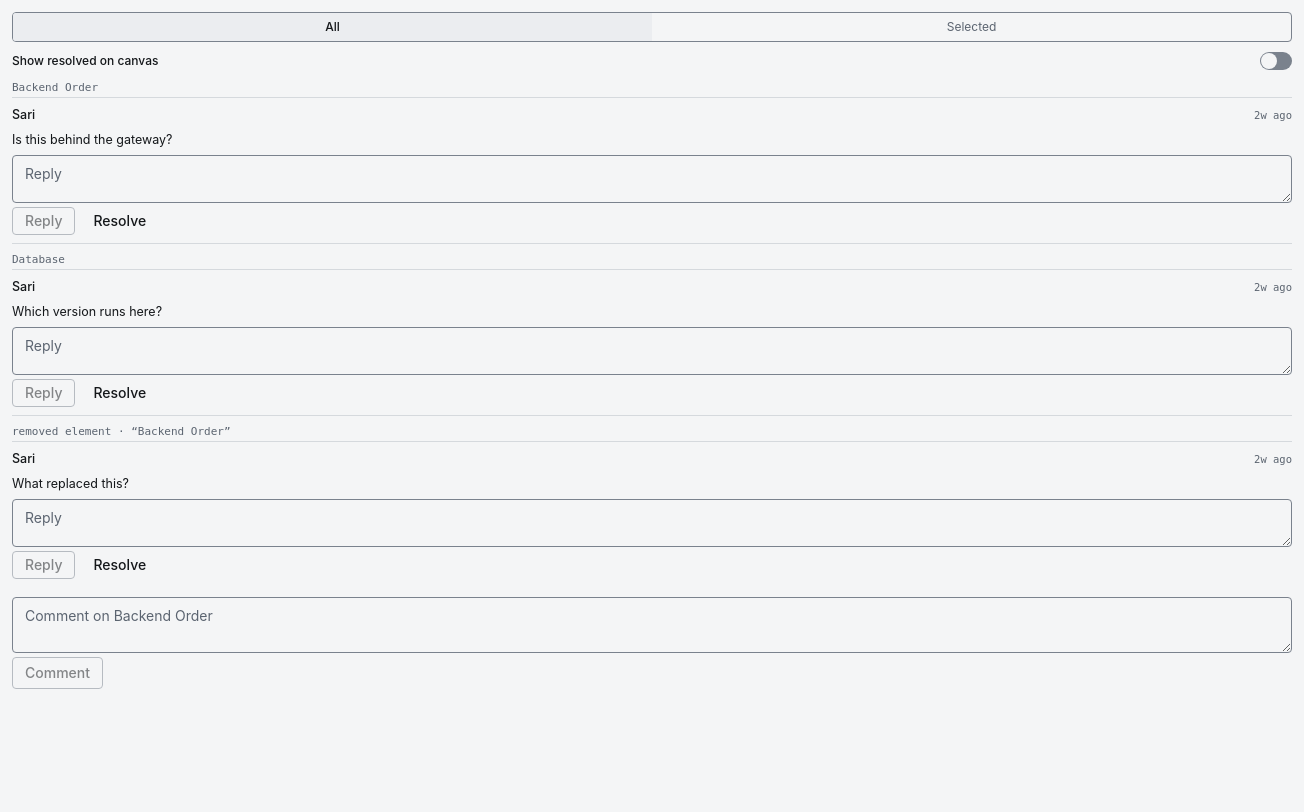
Scenario: the comments tab › lists every thread of the document, filters to the selection, and keeps removed elements last
The image size is (1304, 812).
Expected: the text "Is this behind the gateway?" is shown, [12,132,172,147]
Expected: the text "removed element · “Backend Order”" is shown, [12,425,231,438]
Click the button "Selected": coordinates (972, 27) [652,13,1291,41]
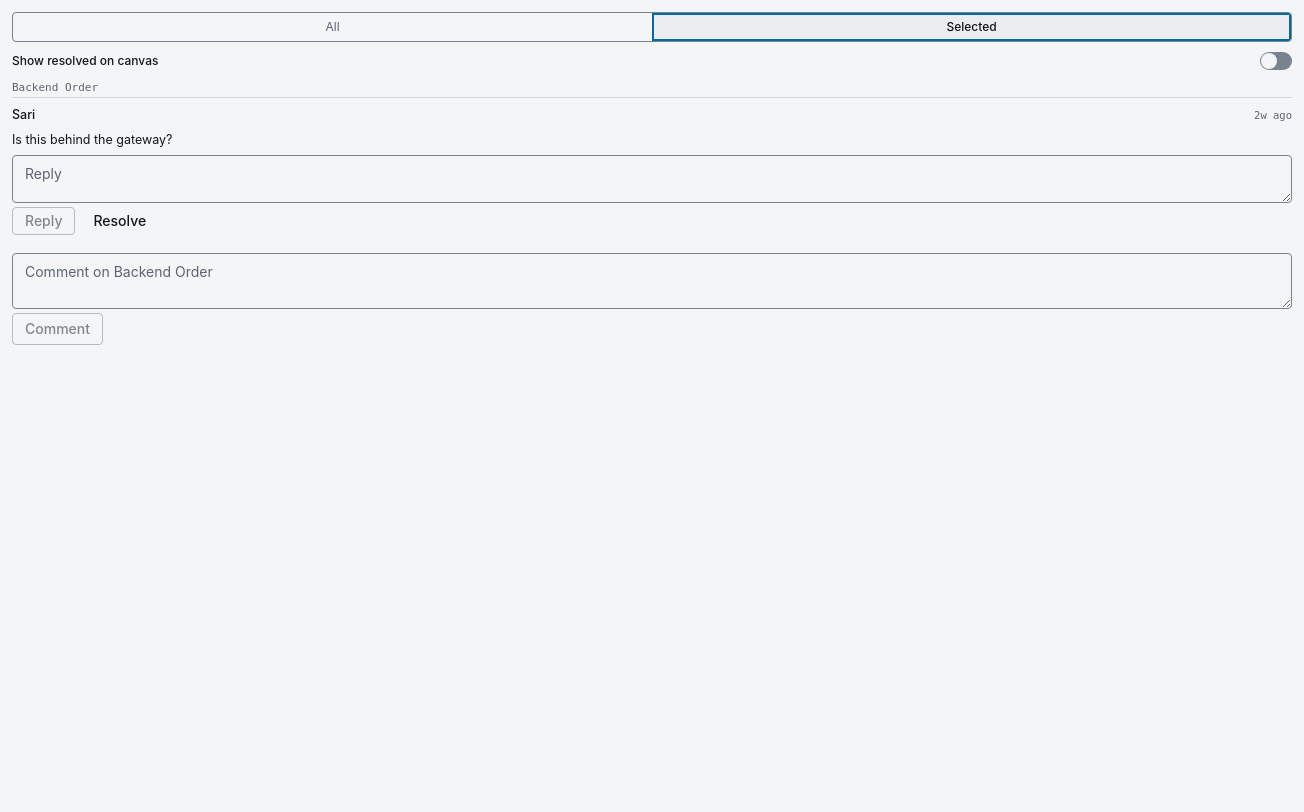
Expected: the text "Is this behind the gateway?" is shown, [12,132,172,147]
Expected: the text "Which version runs here?" is gone
Expected: the text "What replaced this?" is gone
